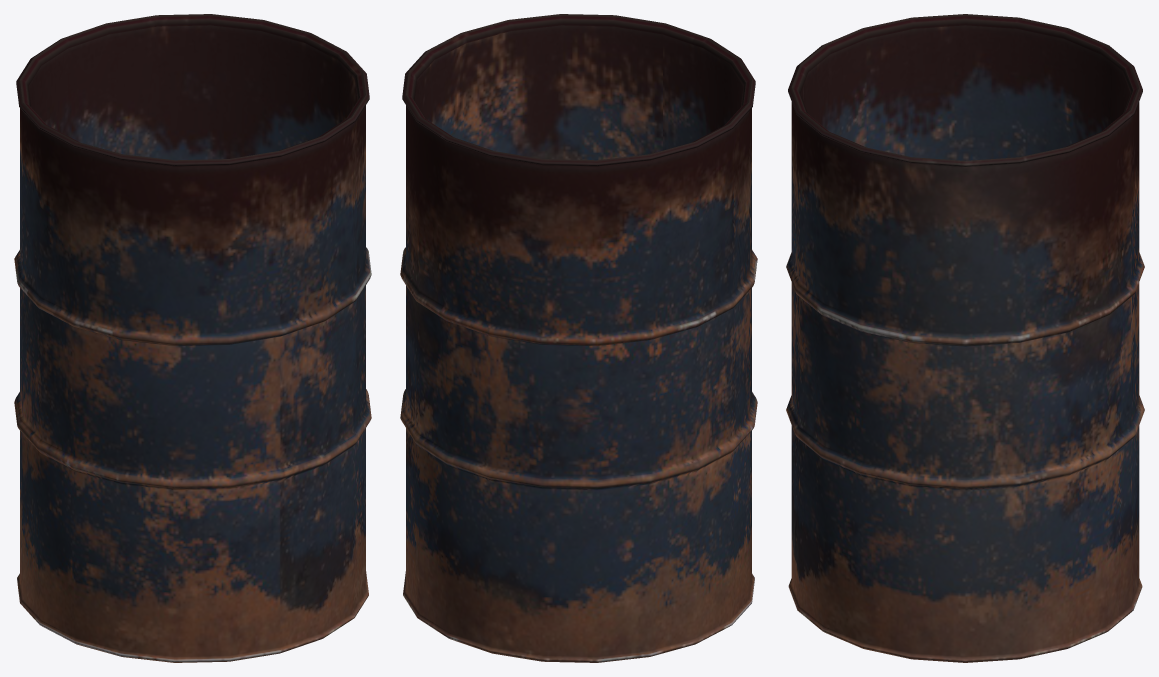
The model's file is barrel0.obj.
3 renders of one model, left to right at view 1: azimuth 30°, elevation 25°; view 2: azimuth 150°, elevation 25°; view 3: azimuth 270°, elevation 25°, orthographic.
Visible parts, largest first — view 1: Burn_Barrel1_Untitled; view 2: Burn_Barrel1_Untitled; view 3: Burn_Barrel1_Untitled.
Part boxes in pixels (x1,y1,x2,y2): Burn_Barrel1_Untitled: (14, 14, 371, 662); Burn_Barrel1_Untitled: (400, 14, 757, 662); Burn_Barrel1_Untitled: (786, 14, 1144, 662).
Bounding box in the file's own units: 1.3 × 2 × 1.3.
1 material, 1 textured.
